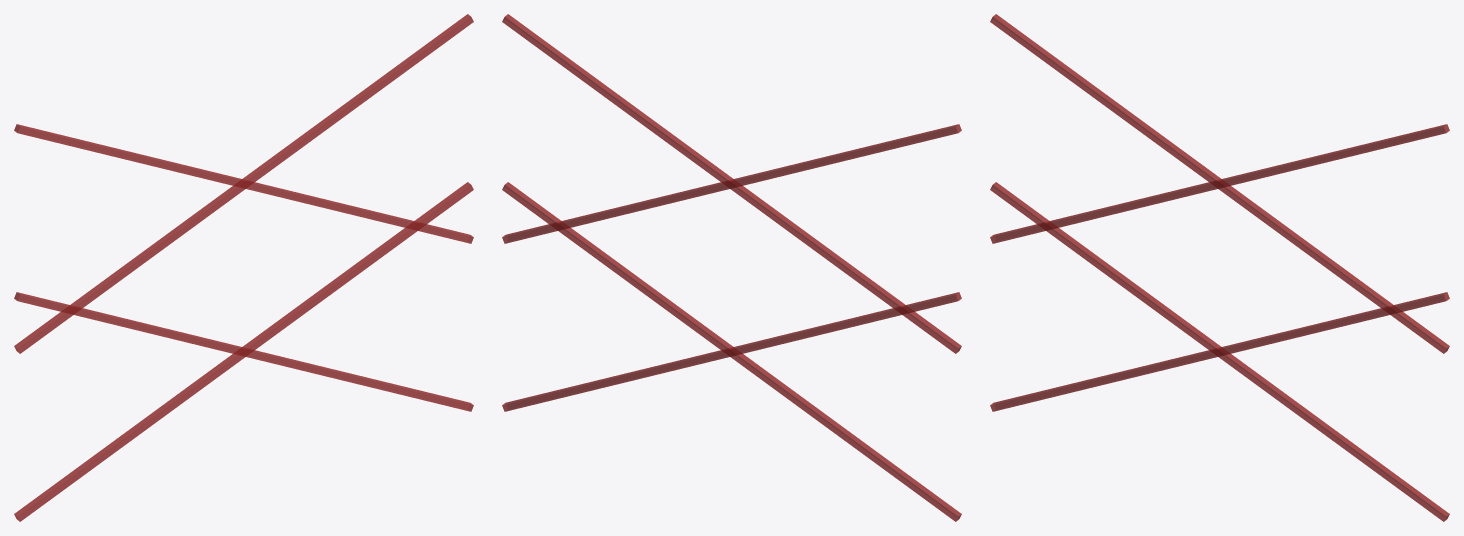
Rendered from Lvl_012.fbx.
The picture shows the model from 3 angles, left to right: view 1: azimuth 30°, elevation 25°; view 2: azimuth 150°, elevation 25°; view 3: azimuth 330°, elevation 25°; orthographic projection.
Visible parts, largest first — view 1: pCube2, pCube55, pCube54, pCube53; view 2: pCube2, pCube55, pCube53, pCube54; view 3: pCube54, pCube53, pCube2, pCube55.
Boxes of the visible parts, bbox=[...] form: pCube2: bbox=[14, 182, 473, 521]; pCube55: bbox=[14, 14, 473, 353]; pCube54: bbox=[14, 124, 473, 243]; pCube53: bbox=[14, 292, 473, 411]; pCube2: bbox=[502, 182, 961, 521]; pCube55: bbox=[502, 14, 961, 353]; pCube53: bbox=[502, 292, 961, 411]; pCube54: bbox=[502, 124, 961, 243]; pCube54: bbox=[990, 14, 1449, 353]; pCube53: bbox=[990, 182, 1449, 521]; pCube2: bbox=[990, 292, 1449, 411]; pCube55: bbox=[990, 124, 1449, 243].
Size of the model in its own units: 1823 by 1509 by 25.
